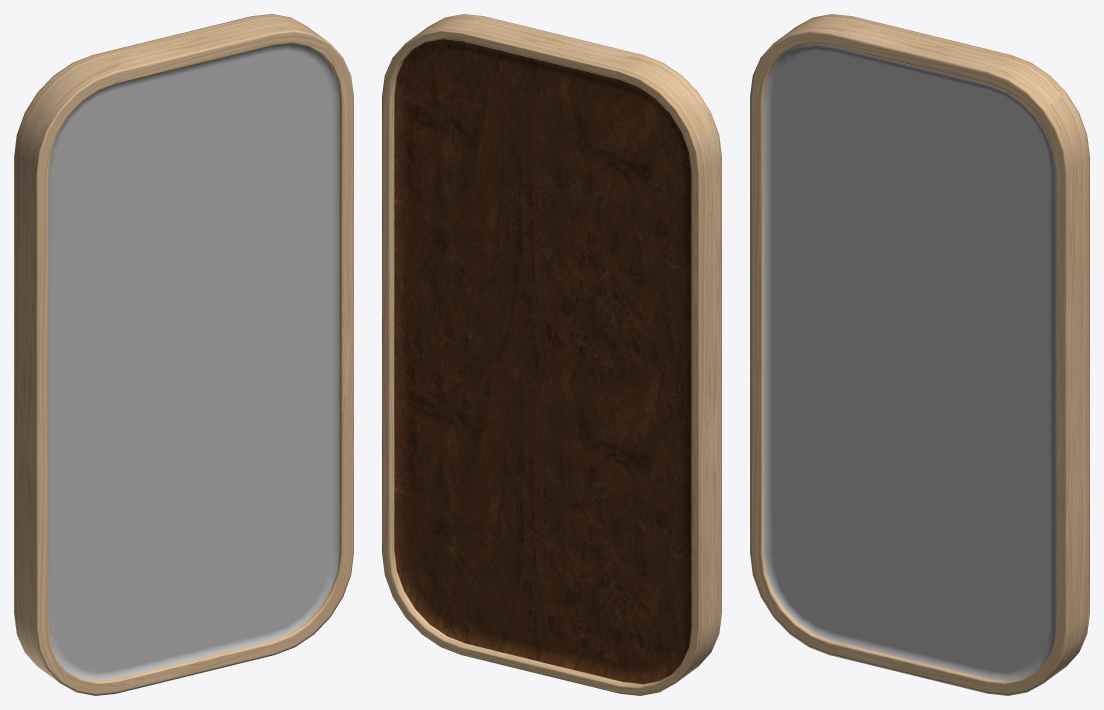
The model's file is SM_Mirror.fbx.
The picture shows the model from 3 angles, left to right: view 1: azimuth 30°, elevation 25°; view 2: azimuth 150°, elevation 25°; view 3: azimuth 330°, elevation 25°; orthographic projection.
Visible parts, largest first — view 1: SM_Mirror; view 2: SM_Mirror; view 3: SM_Mirror.
Boxes of the visible parts, x1=… form: SM_Mirror: x1=14, y1=14, x2=353, y2=695; SM_Mirror: x1=382, y1=14, x2=721, y2=695; SM_Mirror: x1=750, y1=14, x2=1089, y2=695.
Size of the model in its own units: 80 by 150 by 10.
1 material, 1 textured.
